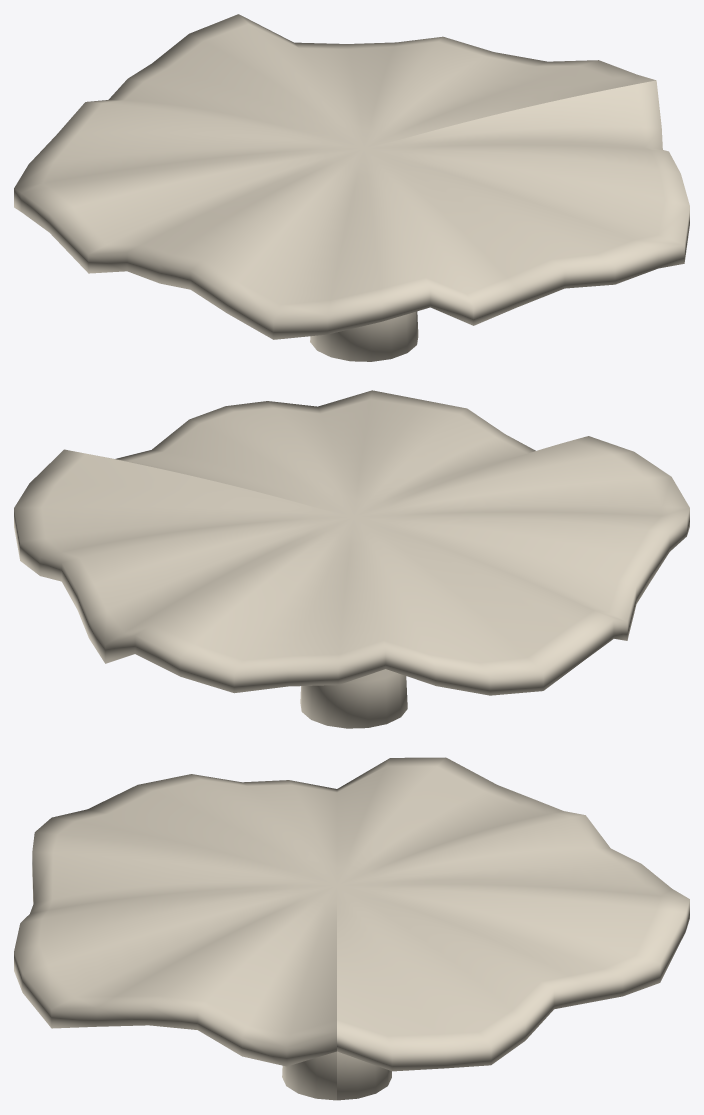
Rendered from coral_table.glb.
The picture shows the model from 3 angles, top to bottom: view 1: azimuth 30°, elevation 25°; view 2: azimuth 150°, elevation 25°; view 3: azimuth 270°, elevation 25°; orthographic projection.
Visible parts, largest first — view 1: coral_table; view 2: coral_table; view 3: coral_table.
Part boxes in pixels (x1=…): coral_table: x1=14, y1=14, x2=689, y2=361; coral_table: x1=14, y1=390, x2=689, y2=728; coral_table: x1=14, y1=757, x2=689, y2=1100.
Bounding box in the file's own units: 1.62 × 0.5054 × 1.6.
